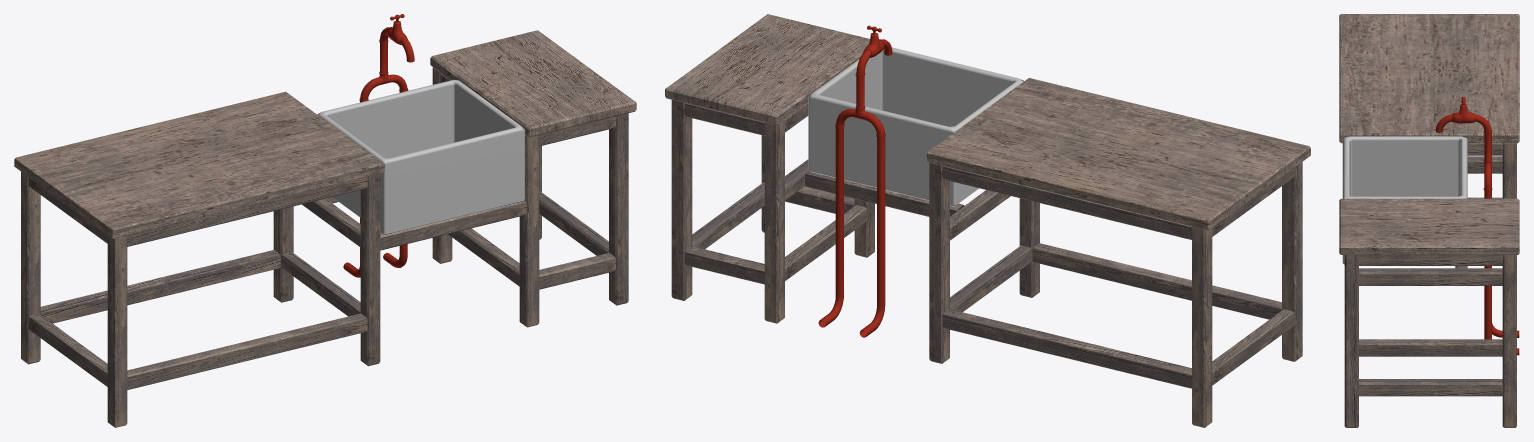
The model's file is WoodTableSink.FBX.
3 views of the same model, side by side, from view 1: azimuth 30°, elevation 25°; view 2: azimuth 150°, elevation 25°; view 3: azimuth 270°, elevation 25° (orthographic). The views are drawn at different scales.
Visible parts, largest first — view 1: Table003, Box009, Torus001; view 2: Table003, Box009, Torus001; view 3: Table003, Box009, Torus001.
Part boxes in pixels (x1=…): Table003: x1=14, y1=30, x2=636, y2=427; Box009: x1=317, y1=79, x2=525, y2=235; Torus001: x1=343, y1=21, x2=414, y2=277; Table003: x1=665, y1=14, x2=1310, y2=427; Box009: x1=808, y1=47, x2=1023, y2=206; Torus001: x1=818, y1=33, x2=892, y2=337; Table003: x1=1339, y1=14, x2=1519, y2=427; Box009: x1=1342, y1=136, x2=1467, y2=264; Torus001: x1=1435, y1=104, x2=1519, y2=355.
Size of the model in its own units: 82.55 by 42.29 by 26.98.
